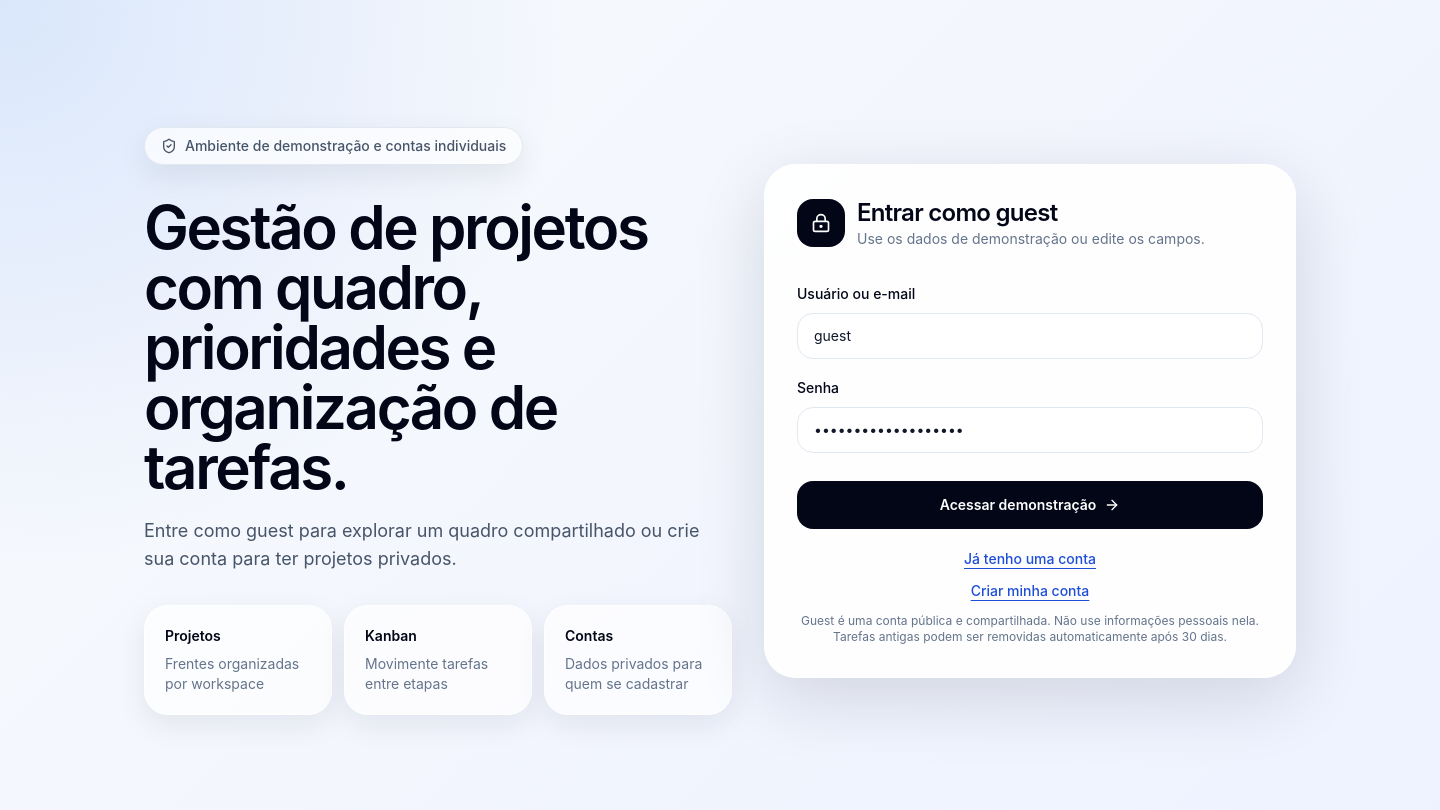
it: textos de apoio do login › mantém descrições curtas para guest e conta pessoal em qualquer resolução
The width and height of the screenshot is (1440, 810).
Expected: the text "Use os dados de demonstração ou edite os campos." is shown, [857,229,1263,249]
Click the button "Já tenho uma conta".
click(1030, 559)  # box [797,549,1263,569]
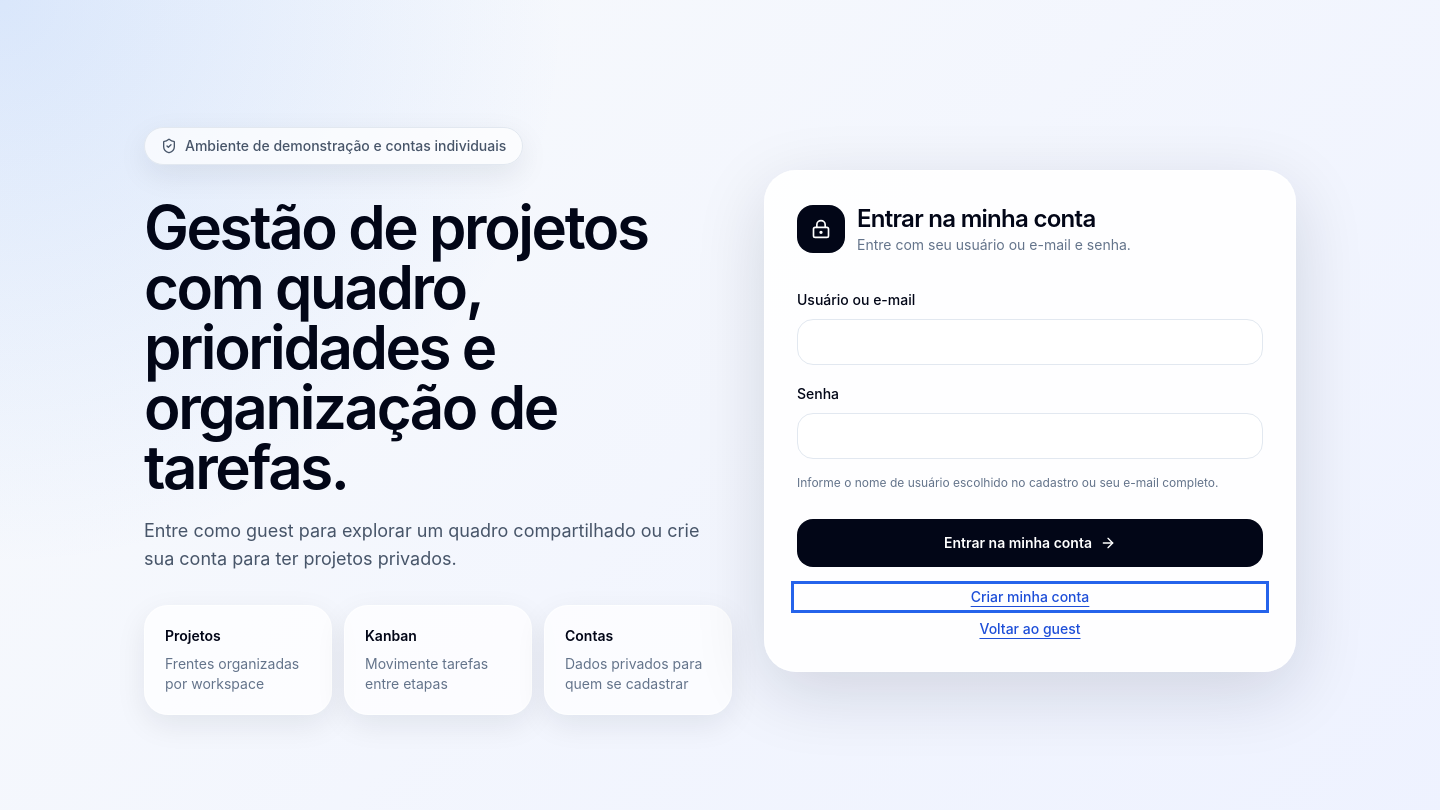
Now the text "Entre com seu usuário ou e-mail e senha." is shown, box [857,236,1131,253]
